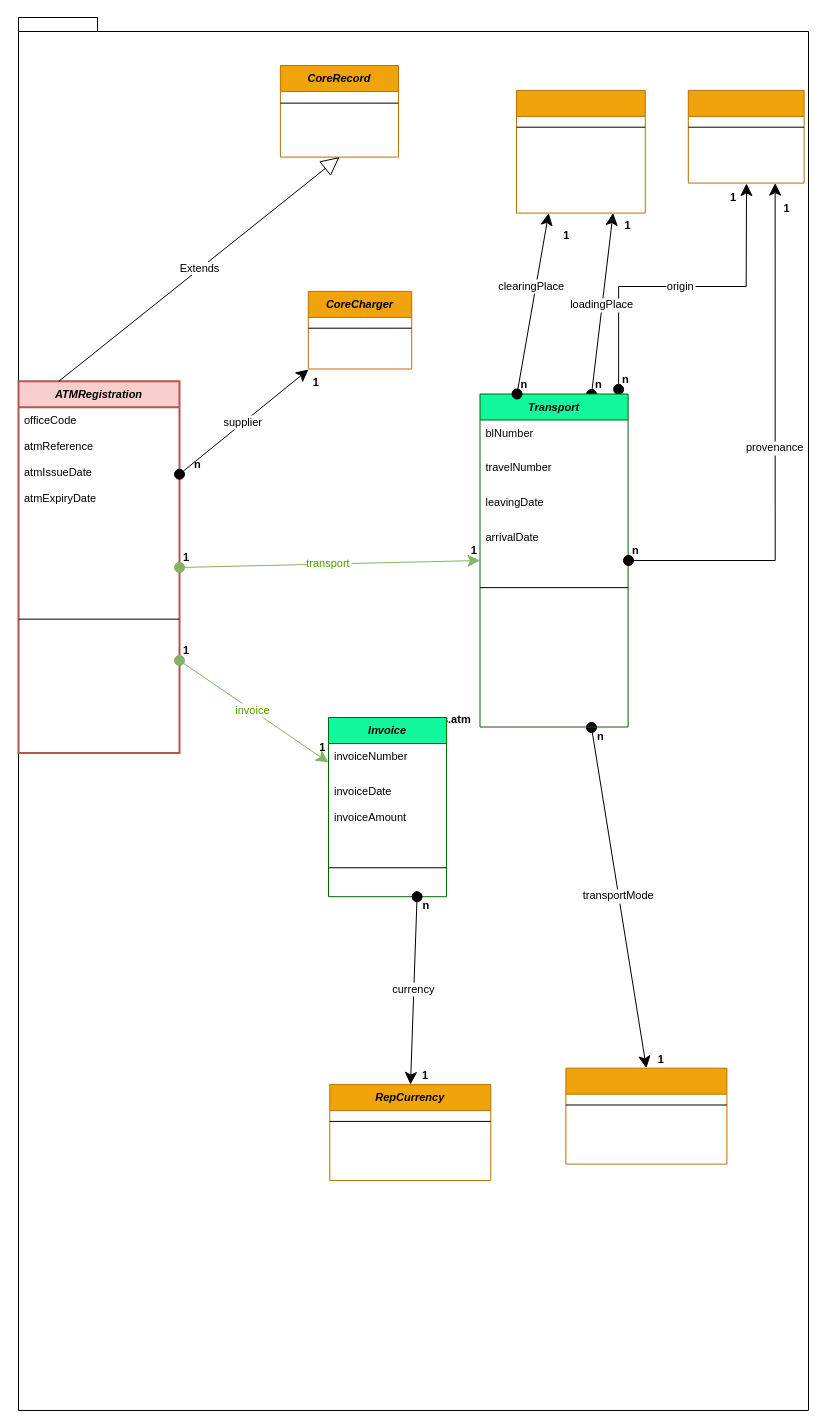
The diagram is 826 pixels wide and 1428 high, and some of its shapes have lost their labels. Here are the shapes that lost their labels. From the top down, the centre of each, then its label:
At pixel 580 151: "RepCustomsOffice".
At pixel 745 136: "CorePays".
At pixel 646 1115: "RepTransportMode".
